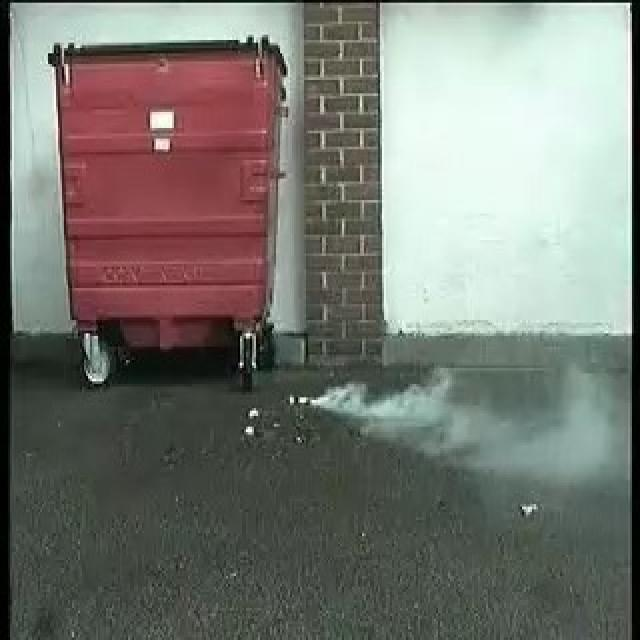smoke: (313, 374, 473, 472)
